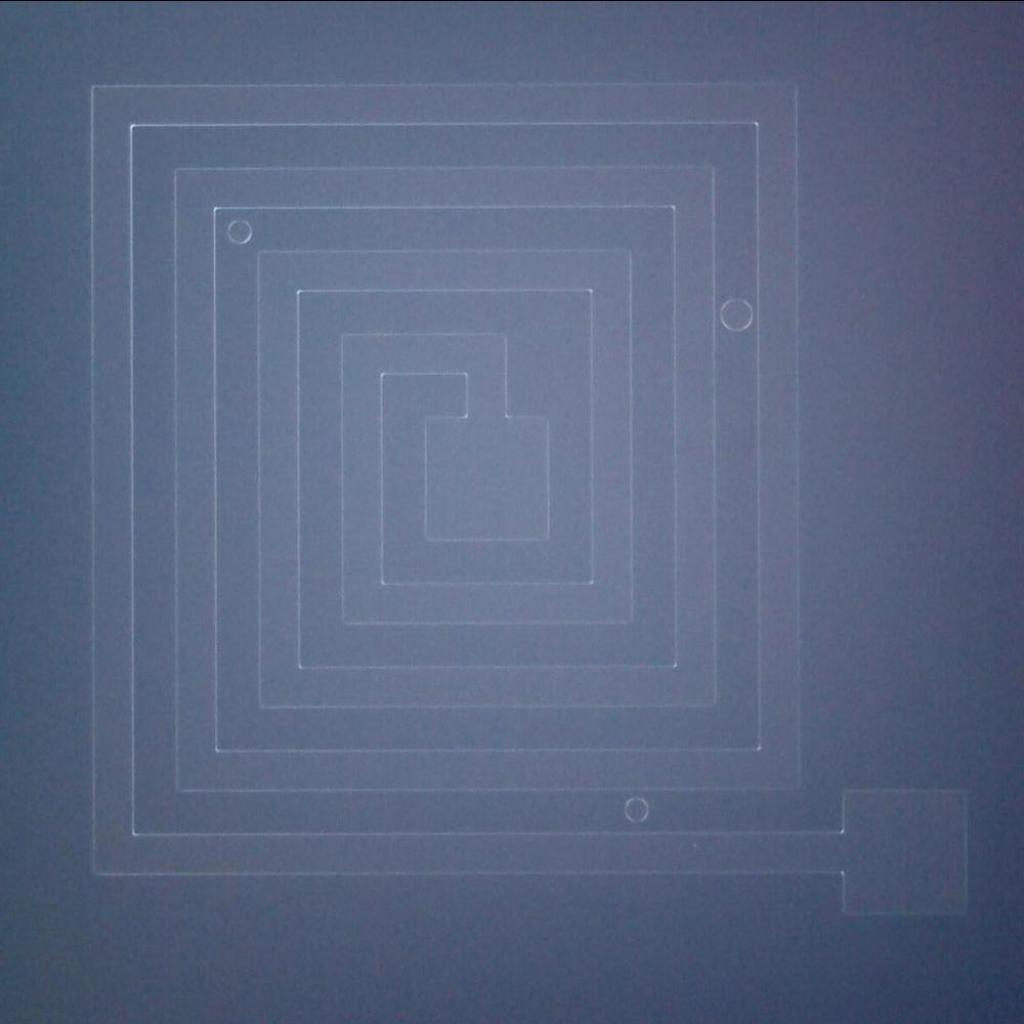circle: (713, 292, 756, 330), (222, 218, 258, 245), (621, 794, 653, 823)
